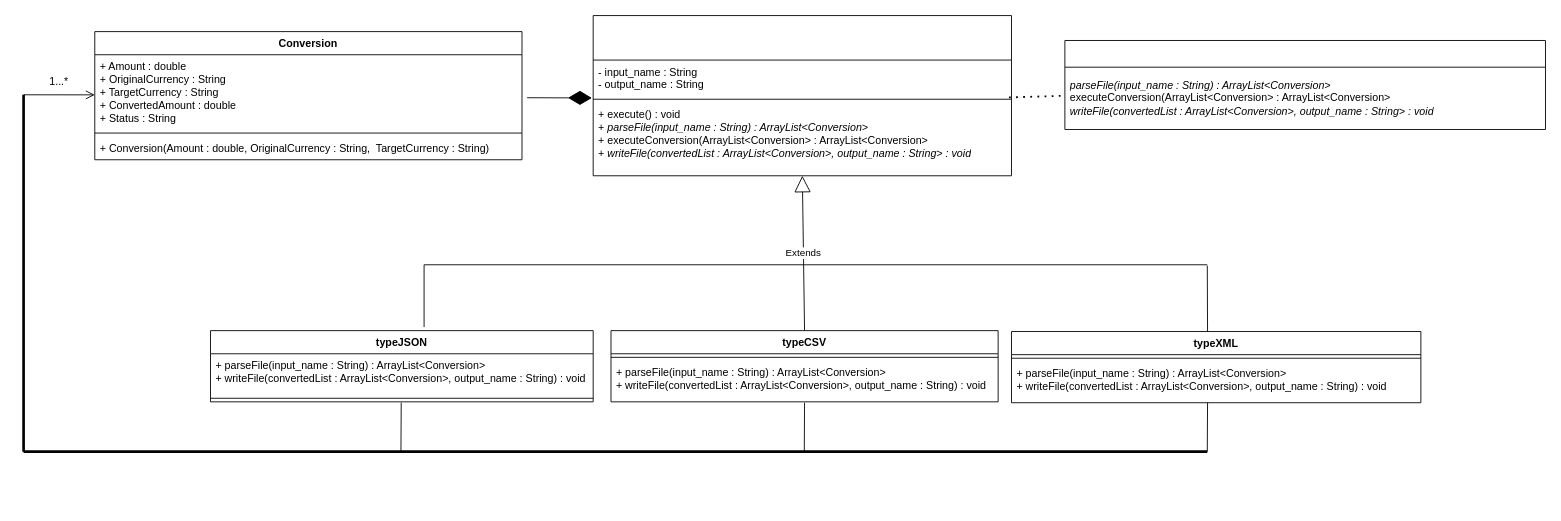
The diagram is 1561 pixels wide and 521 high, and some of its shapes have lost their labels. Here are the shapes that lost their labels. From the top down, the box of each, then its label:
(592, 15, 1011, 176): <<Abstract>> FileAndConversionTemplate
(1064, 40, 1545, 129): templateMethod(): execute(): void
